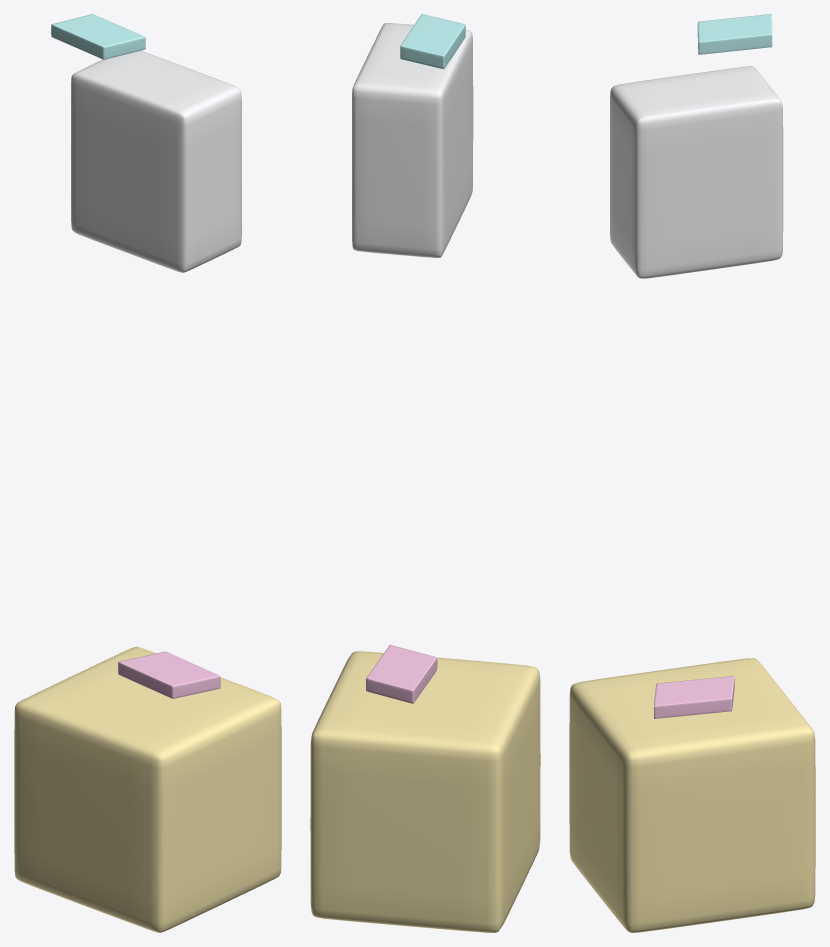
Rendered from PROP_ToyCar_v2.glb.
3 views of the same model, side by side, from view 1: azimuth 30°, elevation 25°; view 2: azimuth 150°, elevation 25°; view 3: azimuth 270°, elevation 25° (orthographic). The views are drawn at different scales.
Parts seen in each view (by area): view 1: PROP_ToyCar_v2; view 2: PROP_ToyCar_v2; view 3: PROP_ToyCar_v2.
Part boxes in pixels (x1,y1,x2,y2): PROP_ToyCar_v2: (14, 14, 281, 932); PROP_ToyCar_v2: (310, 14, 540, 932); PROP_ToyCar_v2: (569, 14, 815, 932).
Bounding box in the file's own units: 1.24 × 4.85 × 1.28.
